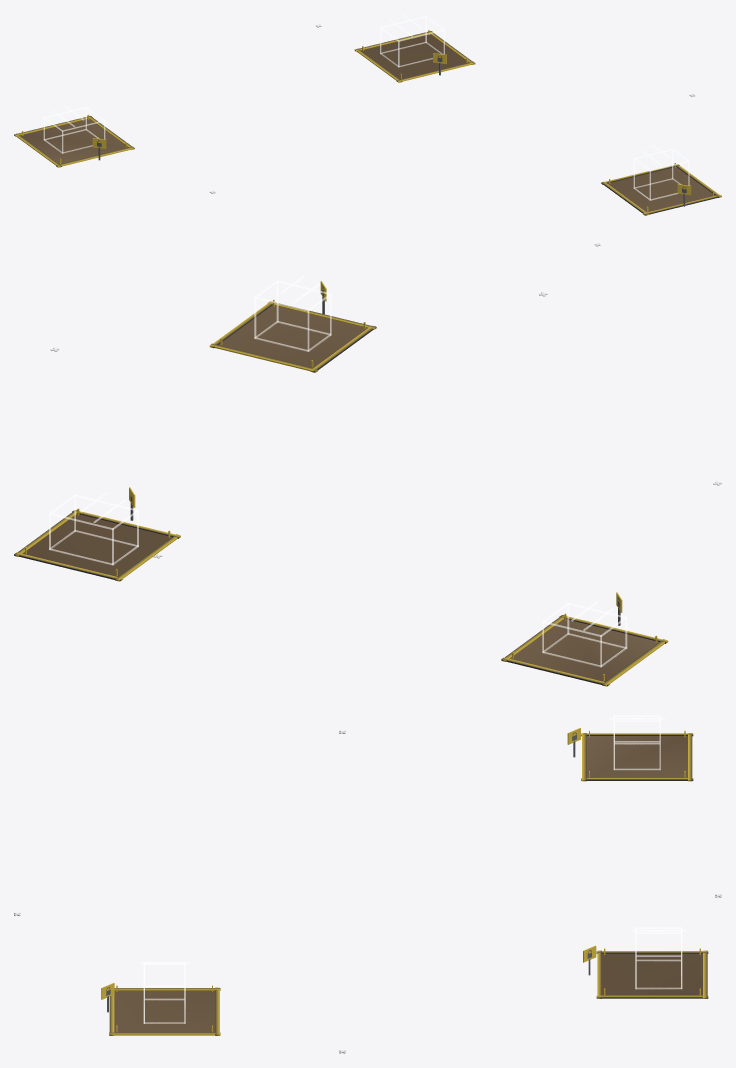
Rendered from Sites_P1.fbx.
3 renders of one model, top to bottom at view 1: azimuth 30°, elevation 25°; view 2: azimuth 150°, elevation 25°; view 3: azimuth 270°, elevation 25°, orthographic. The views are drawn at different scales.
Parts seen in each view (by area): view 1: Site.quarry.Pad, Site.plant.Pad, Site.store.Pad, Site.store.Ghost, Site.quarry.Ghost, Site.plant.Ghost; view 2: Site.quarry.Pad, Site.store.Pad, Site.plant.Pad, Site.plant.Ghost, Site.store.Ghost, Site.quarry.Ghost; view 3: Site.store.Pad, Site.quarry.Pad, Site.plant.Pad, Site.store.Ghost, Site.quarry.Ghost, Site.plant.Ghost.
Part boxes in pixels (<box>): Site.quarry.Pad: <box>14,114,134,167</box>; Site.plant.Pad: <box>601,163,721,215</box>; Site.store.Pad: <box>354,30,475,82</box>; Site.store.Ghost: <box>380,14,444,67</box>; Site.quarry.Ghost: <box>43,106,105,153</box>; Site.plant.Ghost: <box>633,145,689,200</box>; Site.quarry.Pad: <box>501,613,668,686</box>; Site.store.Pad: <box>14,508,180,581</box>; Site.plant.Pad: <box>209,299,376,372</box>; Site.plant.Ghost: <box>254,275,331,351</box>; Site.store.Ghost: <box>49,492,138,565</box>; Site.quarry.Ghost: <box>542,601,627,667</box>; Site.store.Pad: <box>596,948,708,998</box>; Site.quarry.Pad: <box>581,730,693,781</box>; Site.plant.Pad: <box>109,985,220,1035</box>; Site.store.Ghost: <box>631,927,686,989</box>; Site.quarry.Ghost: <box>609,715,665,770</box>; Site.plant.Ghost: <box>140,962,189,1023</box>.
Size of the model in its own units: 30934 by 2128 by 27869.
